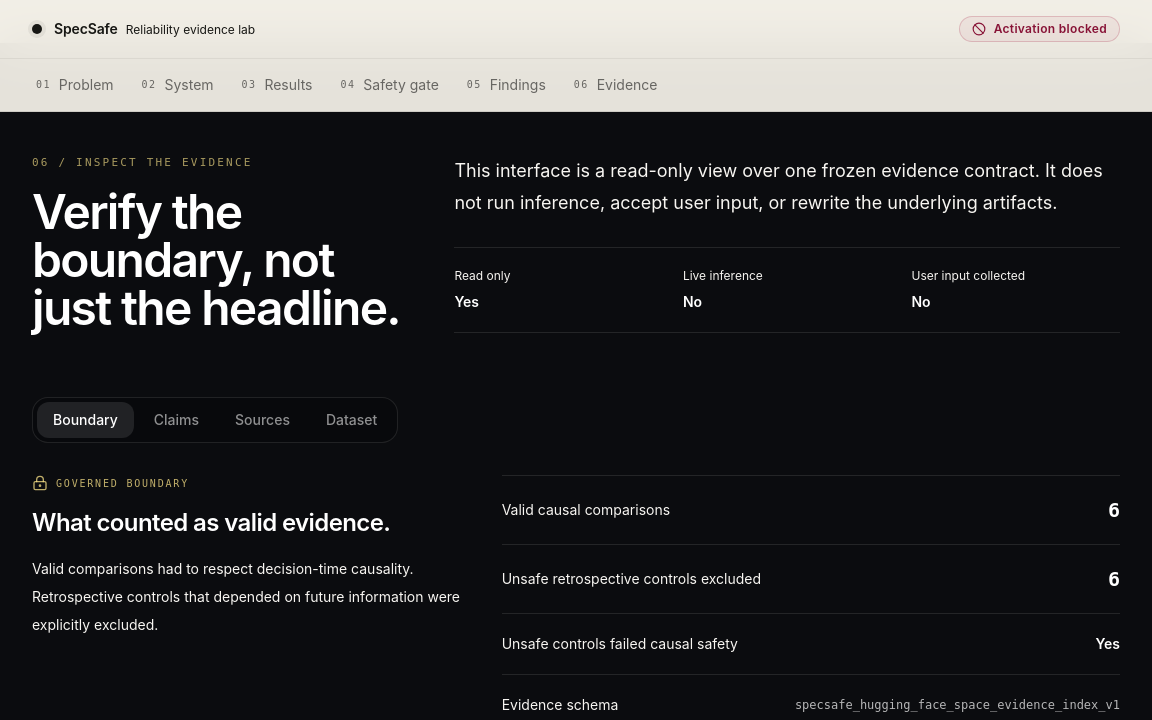
Test case: SpecSafe visual shell › keeps the non-claims visible in the evidence explorer
(page scrolled)
Step 1. Click the tab "Claims" → (176, 420), box top-left (138, 402), bottom-right (215, 438)
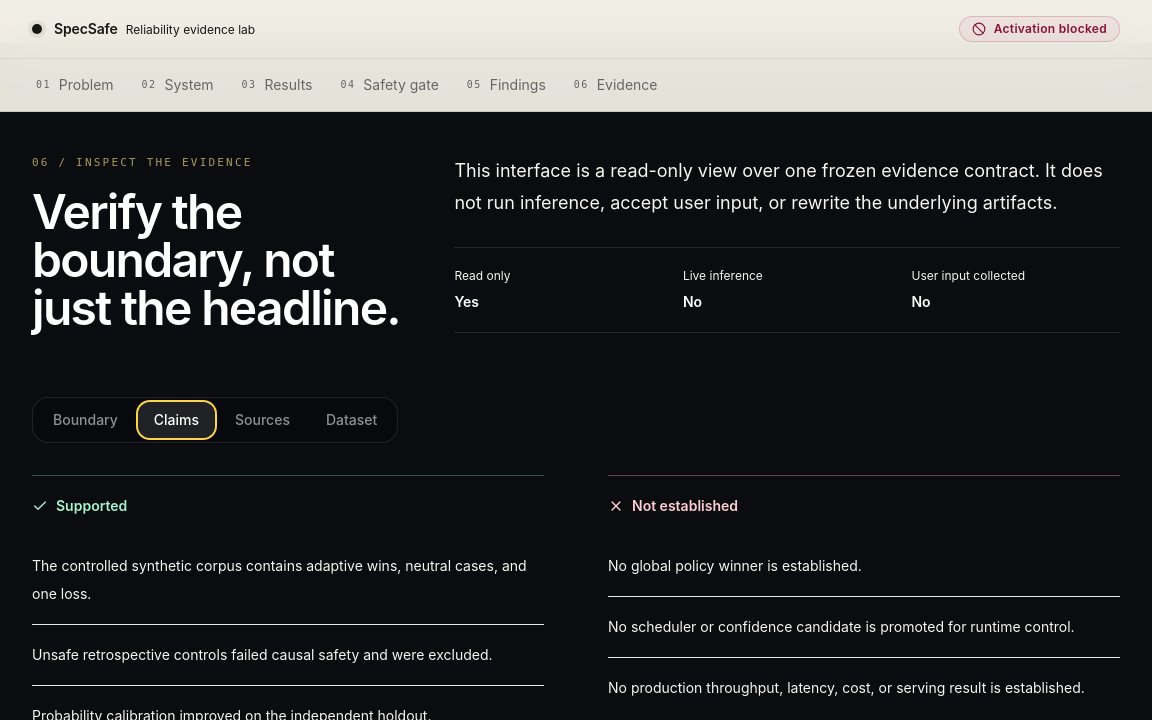
Check: the list item "No global policy winner is established." is shown, box top-left (608, 557), bottom-right (862, 574)
Check: the list item "No production throughput, latency, cost, or serving result is established." is shown, box top-left (608, 657), bottom-right (1120, 718)
